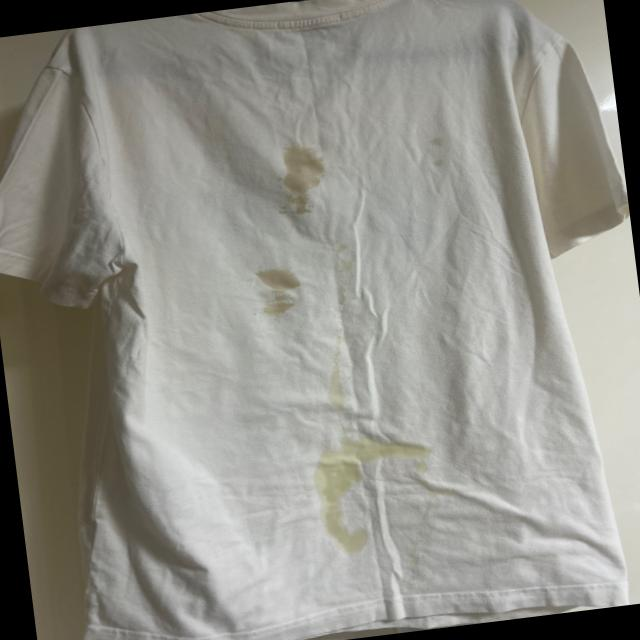stain: (302, 435, 374, 567), (274, 141, 336, 221), (338, 424, 406, 472), (407, 456, 462, 510), (313, 346, 352, 420), (253, 259, 300, 315), (396, 426, 440, 462), (326, 232, 361, 274), (418, 131, 446, 174)
